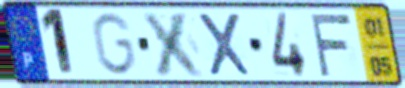1: (38, 7, 78, 81)
4: (271, 10, 309, 80)
F: (306, 12, 354, 79)
G: (89, 10, 139, 78)
X: (139, 10, 209, 79), (194, 10, 256, 78)
